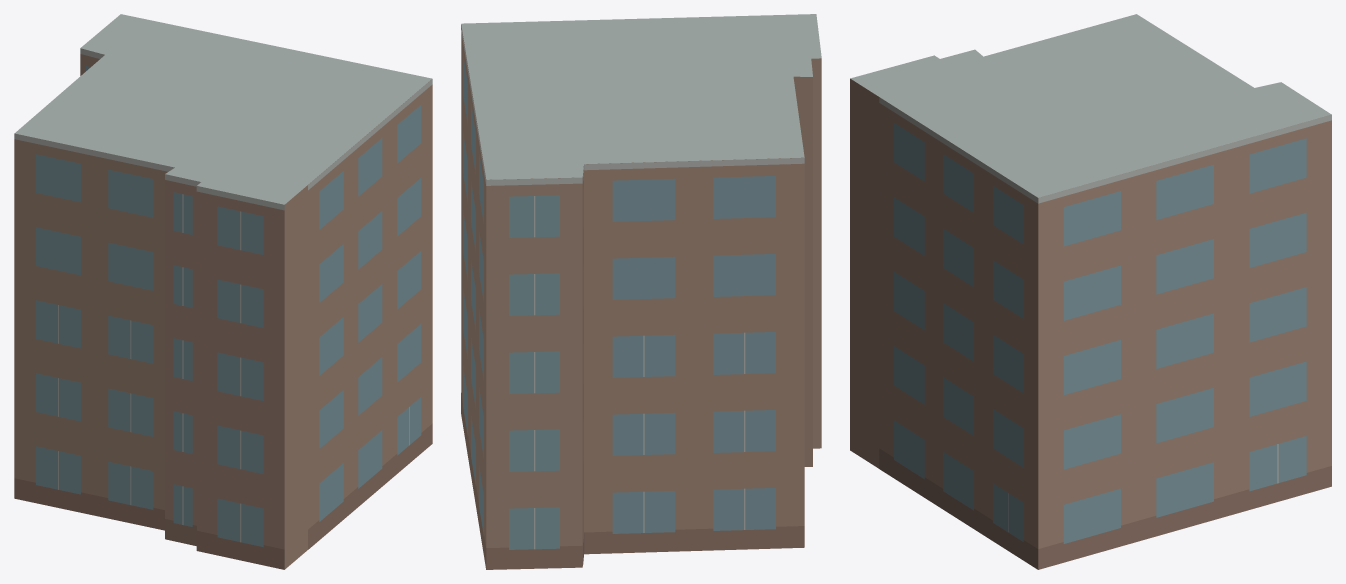
Rendered from survey-upis-32925641.glb.
3 views of the same model, side by side, from view 1: azimuth 30°, elevation 25°; view 2: azimuth 150°, elevation 25°; view 3: azimuth 270°, elevation 25° (orthographic). The views are drawn at different scales.
Parts seen in each view (by area): view 1: survey-upis-32925641.tmp; view 2: survey-upis-32925641.tmp; view 3: survey-upis-32925641.tmp.
Part boxes in pixels (bbox=[...]): survey-upis-32925641.tmp: bbox=[14, 14, 432, 569]; survey-upis-32925641.tmp: bbox=[461, 14, 821, 569]; survey-upis-32925641.tmp: bbox=[850, 14, 1331, 569].
Size of the model in its own units: 16.65 by 15.7 by 18.43.
